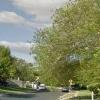Tree: (28, 7, 100, 79)
